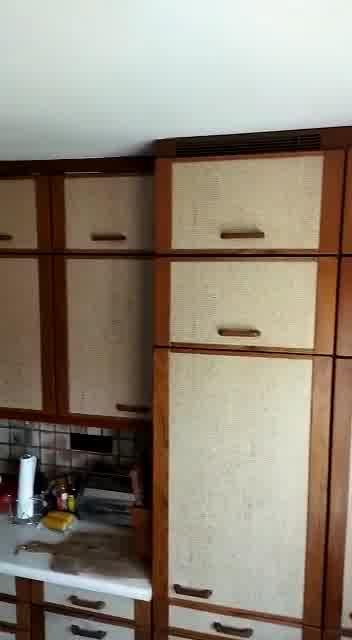cabinet_door: (153, 350, 327, 634), (153, 150, 347, 254), (152, 259, 340, 356), (52, 261, 155, 428), (50, 170, 156, 262), (0, 251, 52, 414), (158, 604, 325, 639), (26, 579, 147, 616), (0, 175, 52, 254), (25, 617, 154, 640)
handle: (216, 217, 268, 247), (214, 315, 264, 342), (212, 613, 256, 640), (115, 397, 153, 428), (88, 224, 129, 250), (173, 580, 215, 603), (69, 620, 105, 640), (70, 594, 107, 612)
